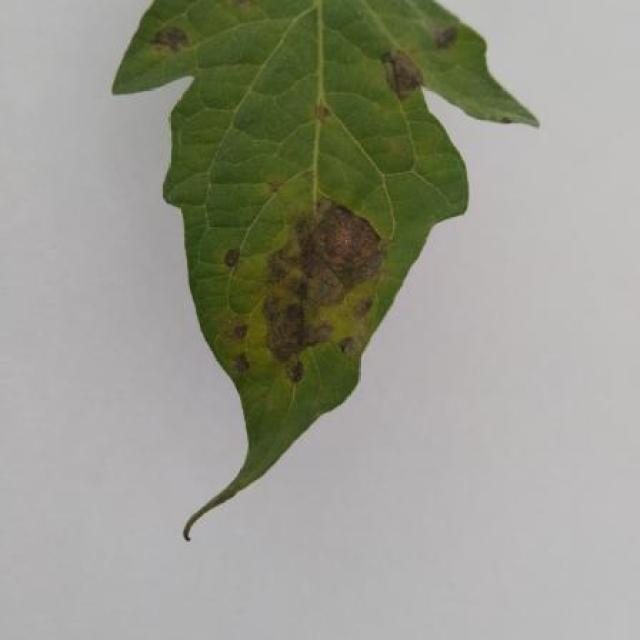Early Blight: (113, 0, 537, 489)
